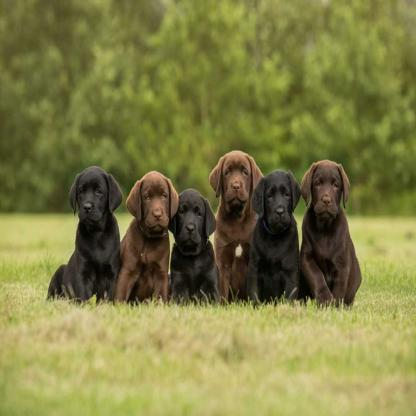dog: (46, 167, 123, 312), (116, 166, 179, 323), (299, 160, 363, 307), (208, 148, 265, 309), (249, 173, 300, 312), (168, 188, 217, 302)
